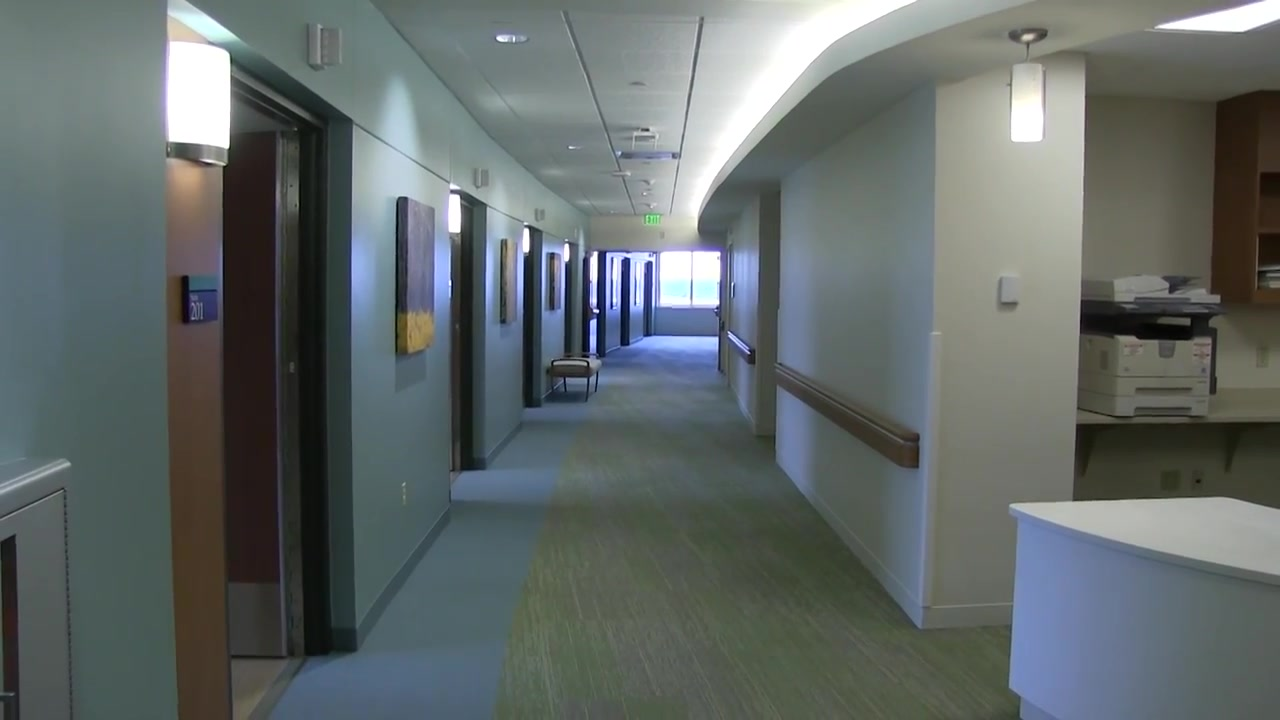cabinet: (1212, 93, 1280, 301)
chair: (546, 353, 601, 401)
counter: (1009, 499, 1280, 718)
countertop: (1009, 496, 1280, 589), (1076, 387, 1280, 424)
hallway_assist_bar: (775, 361, 920, 469), (727, 330, 756, 363)
